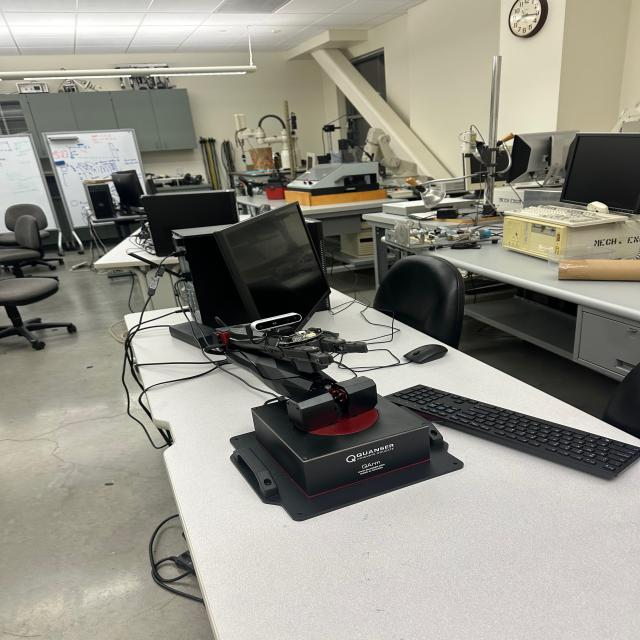monitor: (195, 200, 332, 323), (567, 132, 640, 220), (111, 170, 151, 212)
robotic-arm: (187, 303, 397, 438), (359, 125, 424, 185)
